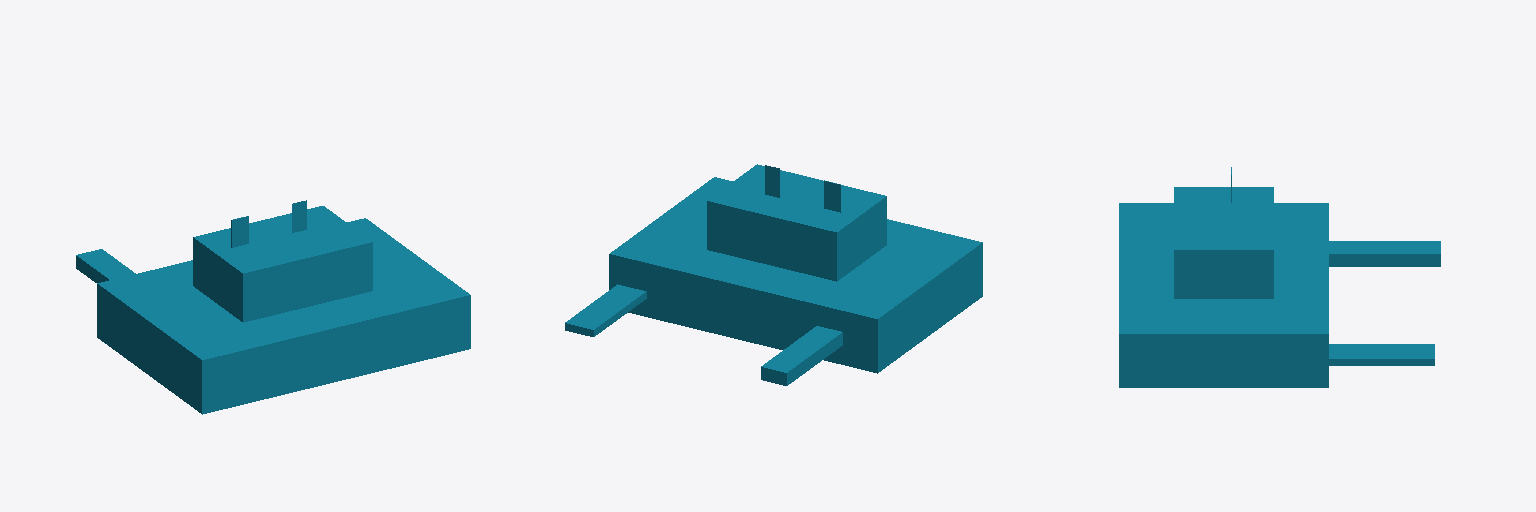
File: tank.obj
The picture shows the model from 3 angles: view 1: azimuth 30°, elevation 25°; view 2: azimuth 150°, elevation 25°; view 3: azimuth 270°, elevation 25°; orthographic projection.
Parts seen in each view (by area): view 1: Box001, Box002, Box005; view 2: Box001, Box002, Box005, Box006; view 3: Box001, Box002, Box005, Box006.
Boxes of the visible parts, x1=… form: Box001: x1=97, y1=218, x2=470, y2=414; Box002: x1=193, y1=206, x2=372, y2=322; Box005: x1=76, y1=249, x2=135, y2=282; Box001: x1=609, y1=177, x2=982, y2=373; Box002: x1=707, y1=164, x2=886, y2=281; Box005: x1=761, y1=326, x2=842, y2=385; Box006: x1=565, y1=284, x2=646, y2=336; Box001: x1=1119, y1=203, x2=1328, y2=387; Box002: x1=1174, y1=187, x2=1273, y2=298; Box005: x1=1329, y1=241, x2=1440, y2=266; Box006: x1=1329, y1=344, x2=1434, y2=365.
Size of the model in its own units: 23.59 by 11.23 by 24.54.